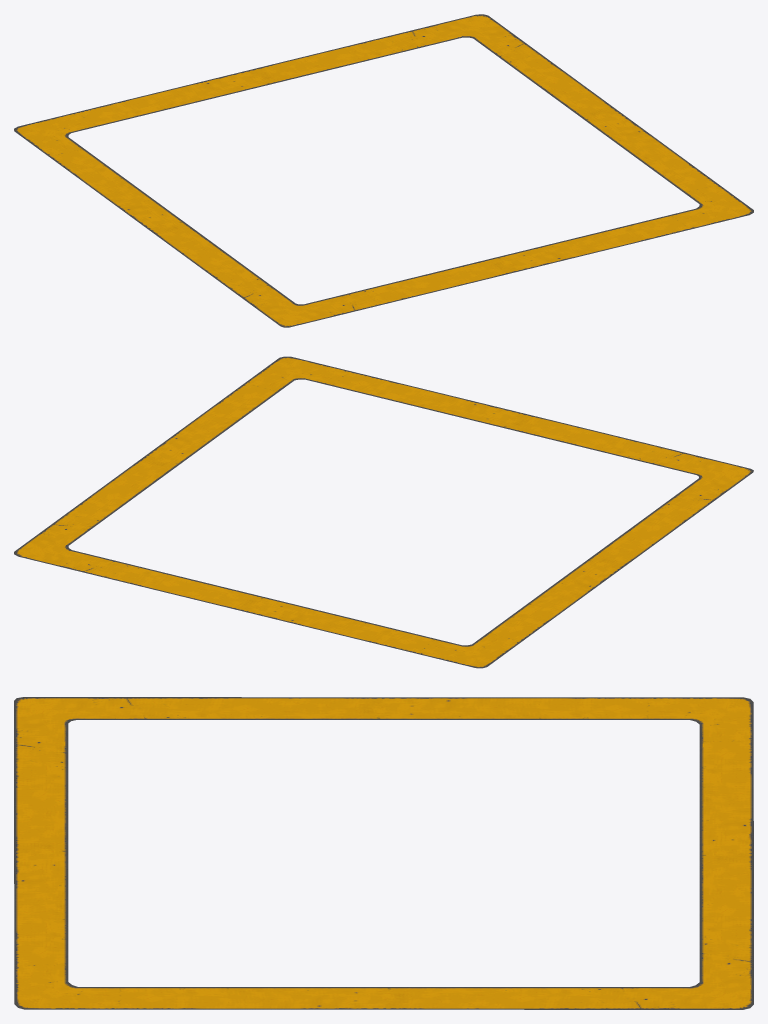
The model's file is SM_FloorDecal_Quad2x2.FBX.
The picture shows the model from 3 angles, top to bottom: view 1: azimuth 30°, elevation 25°; view 2: azimuth 150°, elevation 25°; view 3: azimuth 270°, elevation 25°; orthographic projection. The views are drawn at different scales.
Parts seen in each view (by area): view 1: SM_FloorDecal_Quad2x2; view 2: SM_FloorDecal_Quad2x2; view 3: SM_FloorDecal_Quad2x2.
Boxes of the visible parts, x1,y1,x2,y2 form: SM_FloorDecal_Quad2x2: (14, 14, 753, 327); SM_FloorDecal_Quad2x2: (14, 356, 753, 668); SM_FloorDecal_Quad2x2: (14, 697, 753, 1009).
Size of the model in its own units: 215 by 215 by 3.64e-12.
